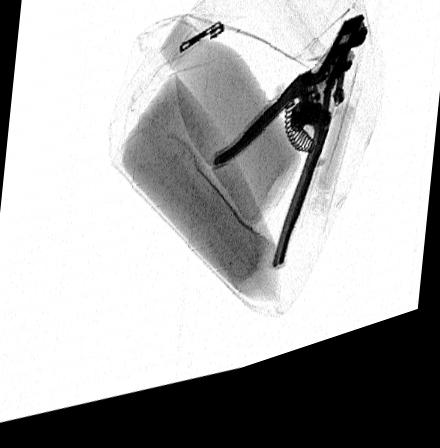Pliers: (211, 38, 370, 284)
